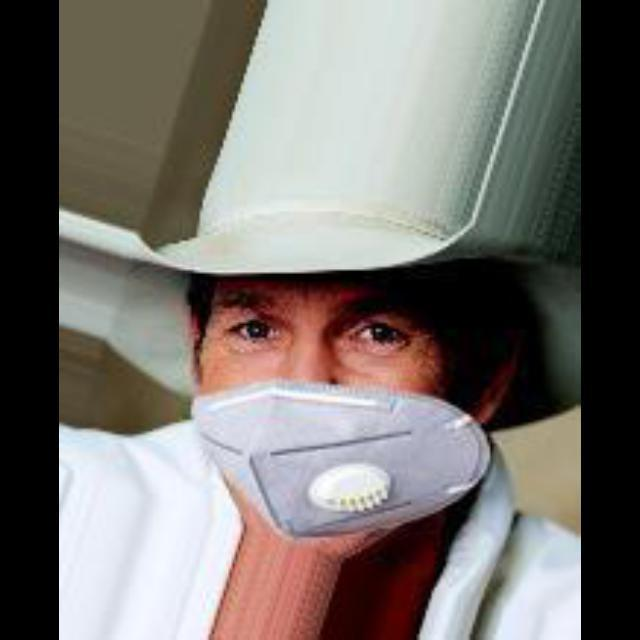suspicion: (148, 255, 548, 595)
